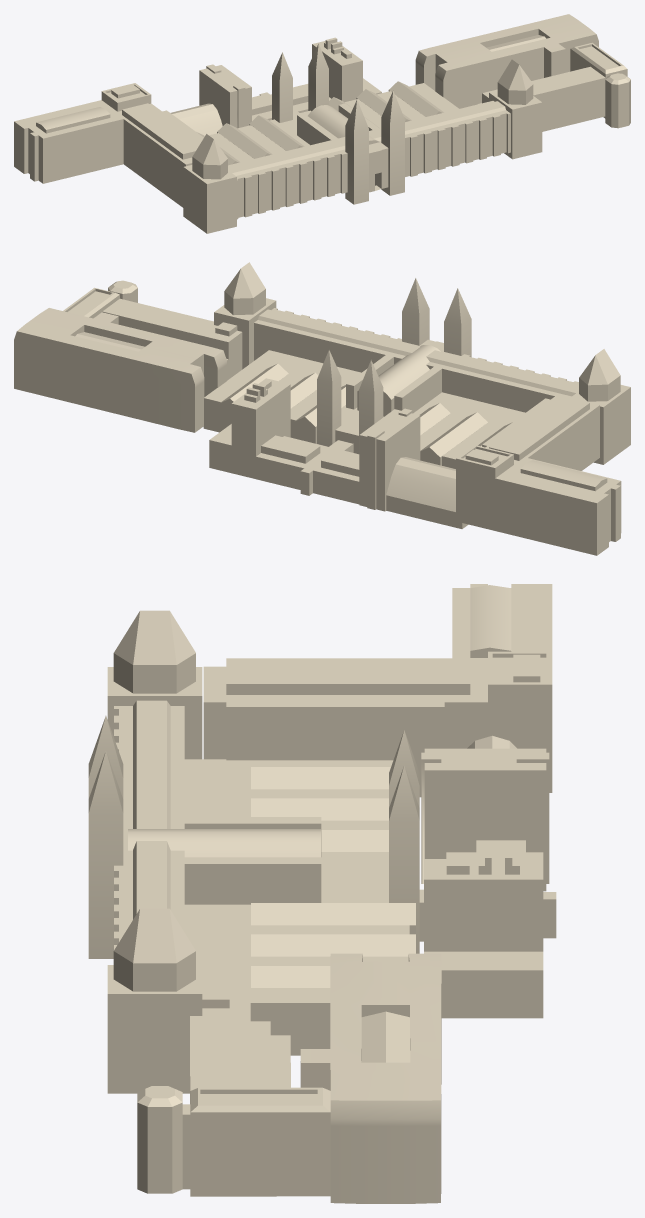
The model's file is SM_Natural_History_Museum.fbx.
The picture shows the model from 3 angles, top to bottom: view 1: azimuth 30°, elevation 25°; view 2: azimuth 150°, elevation 25°; view 3: azimuth 270°, elevation 25°; orthographic projection. The views are drawn at different scales.
Parts seen in each view (by area): view 1: SM_Natural_History_Museum; view 2: SM_Natural_History_Museum; view 3: SM_Natural_History_Museum.
Part boxes in pixels (x1=…): SM_Natural_History_Museum: x1=14, y1=14, x2=630, y2=233; SM_Natural_History_Museum: x1=14, y1=262, x2=630, y2=555; SM_Natural_History_Museum: x1=88, y1=584, x2=556, y2=1203.
Bounding box in the file's own units: 333 × 60.34 × 127.
